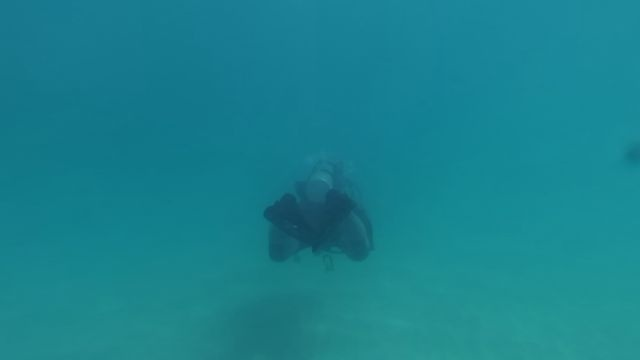Diver: (255, 160, 379, 262)
